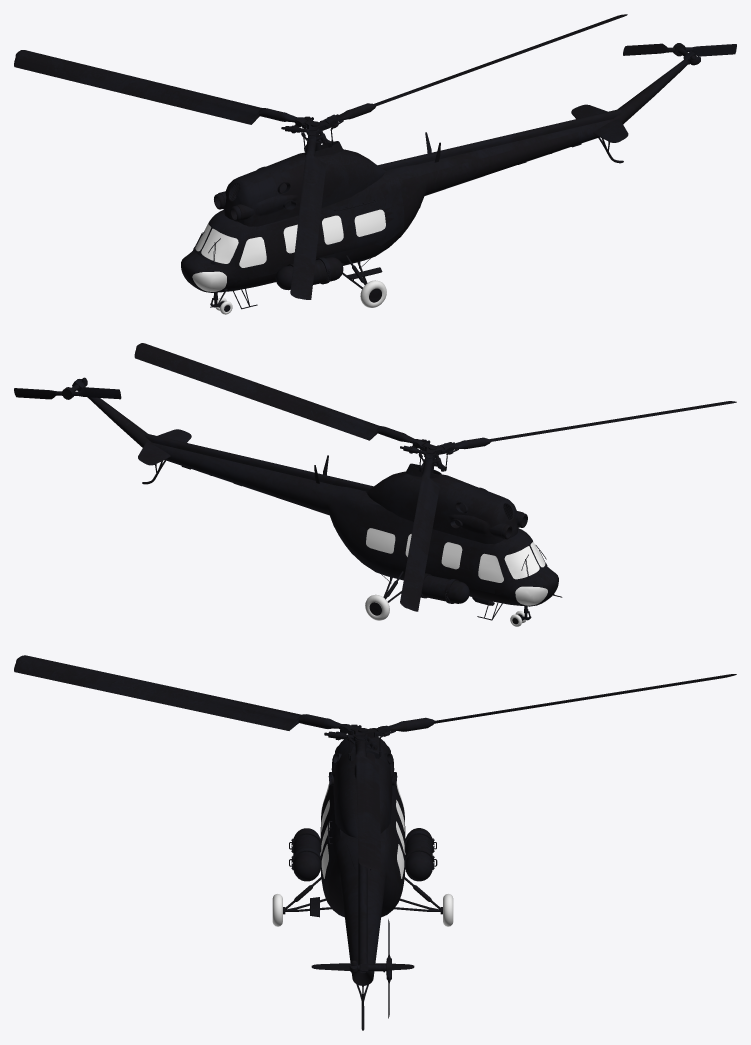
3 views of the same model, one above another, from view 1: azimuth 30°, elevation 25°; view 2: azimuth 150°, elevation 25°; view 3: azimuth 270°, elevation 25° (orthographic). The views are drawn at different scales.
Parts seen in each view (by area): view 1: Body, Propeller, Top_Body, Body_Cover?, Glass_1, Propeller_Back_Wing, Body_BackWing, Body_Parts1_1, Wheel_Frame, Top_Parts, Wheel_Tire, Body_Parts_2; view 2: Body, Propeller, Top_Body, Body_Cover?, Glass_1, Propeller_Back_Wing, Body_Parts1_1, Body_BackWing, Top_Parts, Wheel_Tire, Body_Parts_2, Wheel_Frame; view 3: Propeller, Body, Top_Body, Body_Parts1_1, Body_Cover?, Wheel_Frame, Glass_1, Body_Parts1_2, Wheel_Tire, Body_BackWing.
Part boxes in pixels (<box>): Body: <box>181,59,688,292</box>; Propeller: <box>14,14,627,299</box>; Top_Body: <box>218,141,385,226</box>; Body_Cover?: <box>181,169,404,292</box>; Glass_1: <box>192,209,385,291</box>; Propeller_Back_Wing: <box>623,43,736,56</box>; Body_BackWing: <box>571,104,628,163</box>; Body_Parts1_1: <box>275,257,343,290</box>; Wheel_Frame: <box>210,255,382,311</box>; Top_Parts: <box>214,166,296,221</box>; Wheel_Tire: <box>215,280,386,314</box>; Body_Parts_2: <box>193,132,581,309</box>; Body: <box>83,386,558,606</box>; Propeller: <box>134,343,736,611</box>; Top_Body: <box>366,463,523,544</box>; Body_Cover?: <box>348,490,558,606</box>; Glass_1: <box>366,528,547,605</box>; Propeller_Back_Wing: <box>14,387,121,399</box>; Body_Parts1_1: <box>421,575,469,603</box>; Body_BackWing: <box>138,429,191,484</box>; Top_Parts: <box>450,487,527,539</box>; Wheel_Tire: <box>365,594,526,626</box>; Body_Parts_2: <box>181,455,562,620</box>; Wheel_Frame: <box>369,571,531,624</box>; Propeller: <box>14,655,736,872</box>; Body: <box>320,784,405,985</box>; Top_Body: <box>331,737,394,838</box>; Body_Parts1_1: <box>293,828,432,881</box>; Body_Cover?: <box>320,783,405,898</box>; Wheel_Frame: <box>283,877,442,917</box>; Glass_1: <box>321,783,404,878</box>; Body_Parts1_2: <box>289,830,437,869</box>; Wheel_Tire: <box>272,894,453,926</box>; Body_BackWing: <box>311,963,414,1030</box>.
Size of the model in its own units: 14.28 by 4.51 by 12.95.
